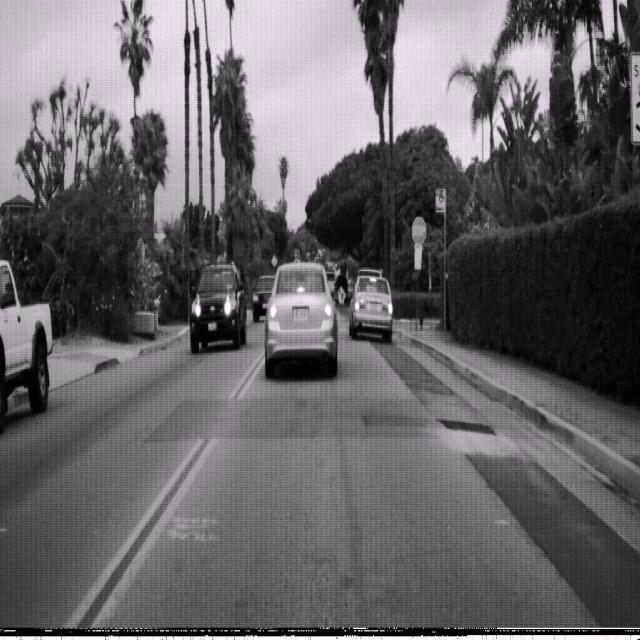stop_sign: (412, 215, 426, 244)
